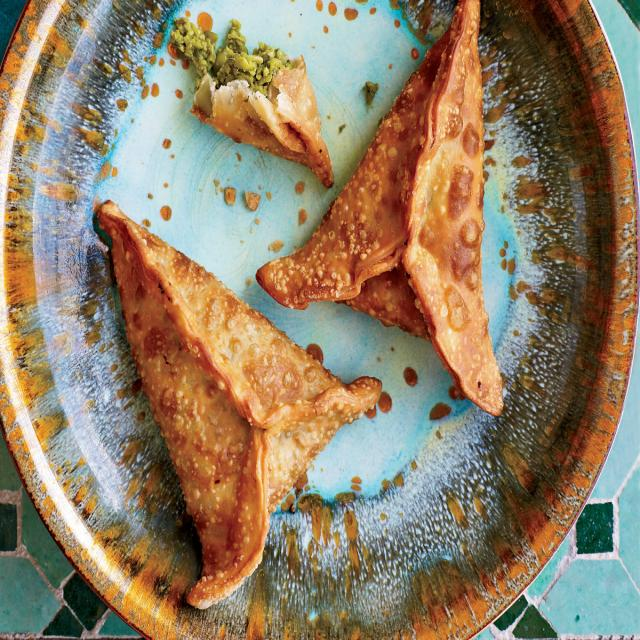samosa: (260, 0, 534, 351)
